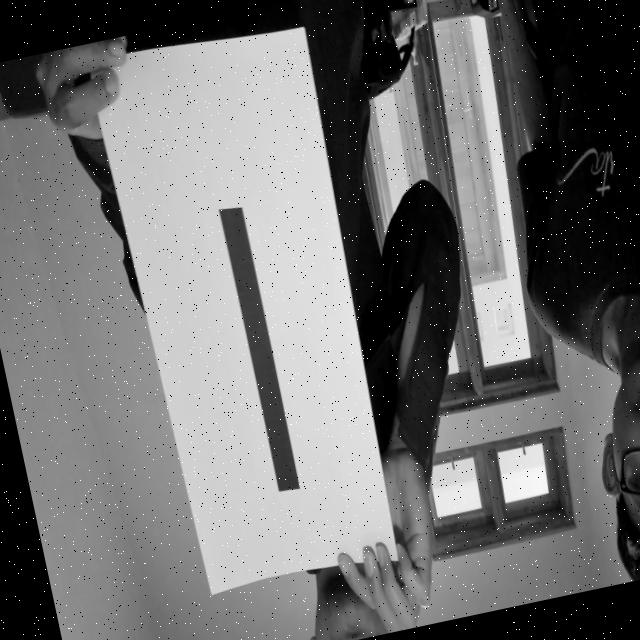i: (200, 173, 316, 510)
